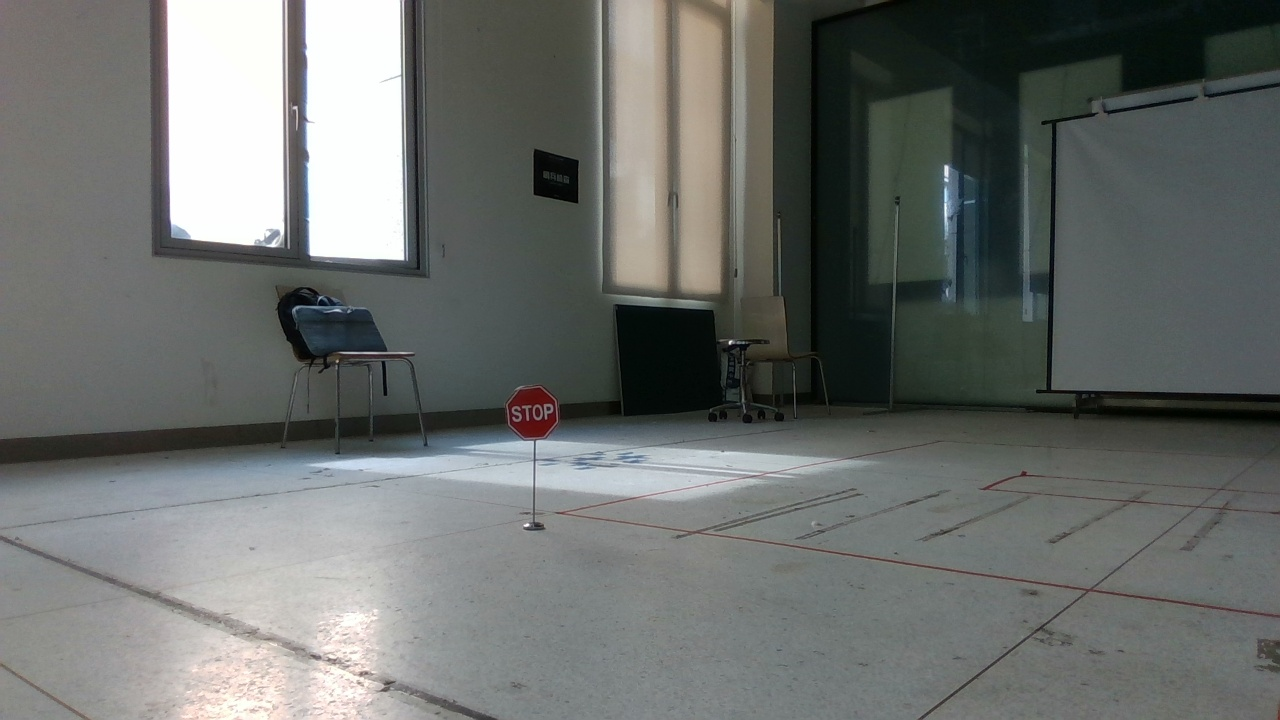stop_sign: (496, 382, 566, 436)
